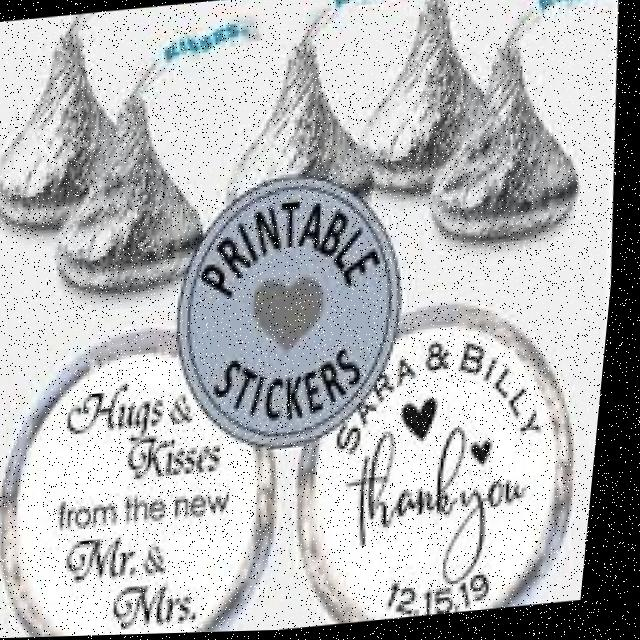kisses: (419, 24, 600, 257), (48, 76, 224, 299), (0, 22, 141, 238), (354, 0, 500, 199), (223, 31, 398, 197)
